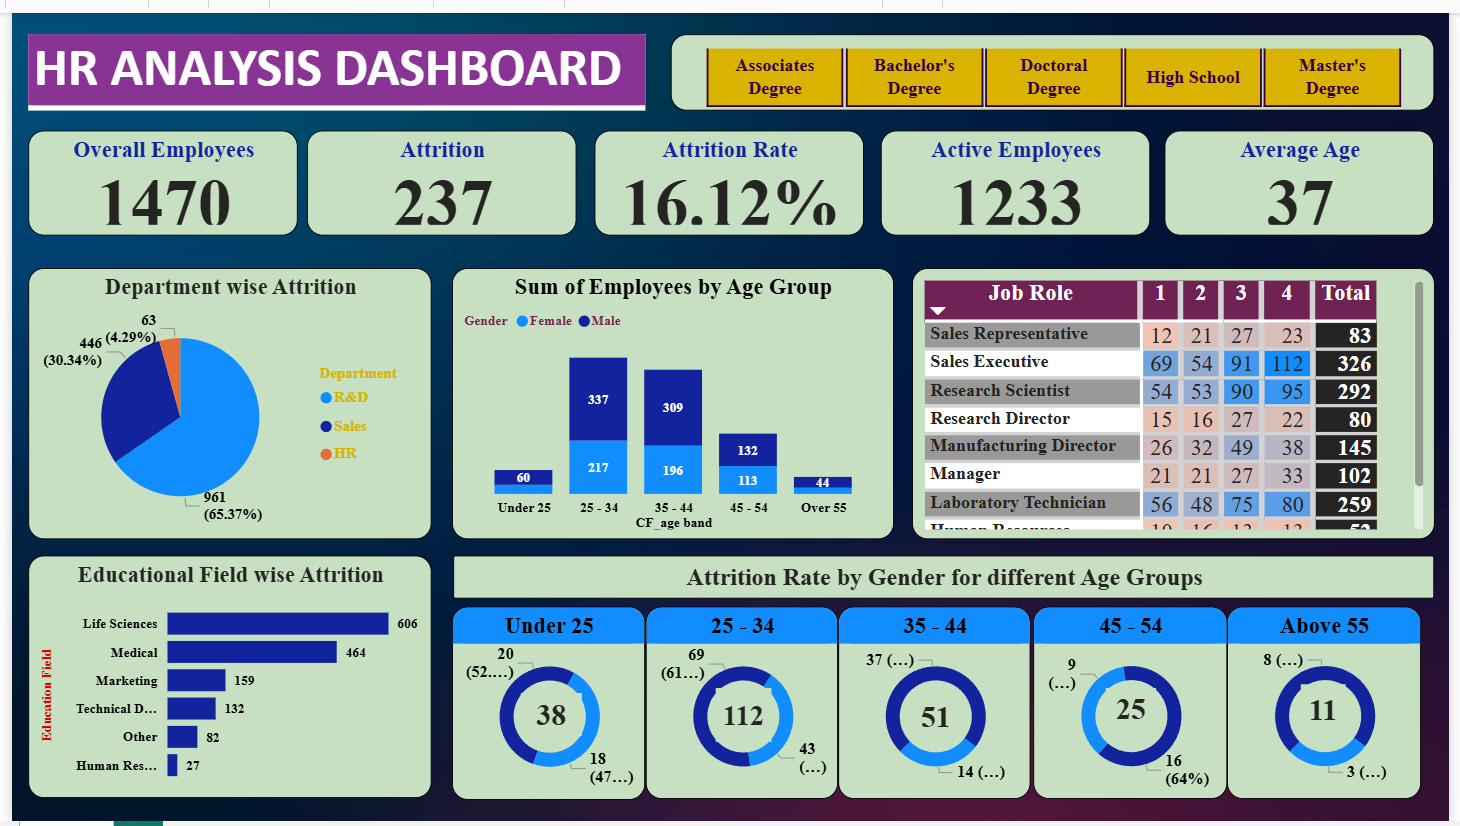

This screenshot's page, from the dashboard's own definition file:
{"tool":"powerbi","page":{"name":"Page 1","canvas":[1280,720],"ordinal":0},"visuals":[{"type":"card","title":"Overall Employees","fields":{"Values":["CountNonNull(Table1 (2).Attrition)"]},"box":[14.5,104.8,240,93.5],"z":0},{"type":"card","title":"Attrition","fields":{"Values":["Sum(Table1 (2).Attrition Count)"]},"box":[262.7,104.8,240.1,93.5],"z":1000},{"type":"card","title":"Attrition Rate","fields":{"Values":["Table1 (2).Attrition Rate"]},"box":[519,104.8,240.1,93.5],"z":2000},{"type":"card","title":"Active Employees","fields":{"Values":["Table1 (2).Active Employees"]},"box":[773.6,104.8,240.1,93.5],"z":3000},{"type":"card","title":"Average Age","fields":{"Values":["Avg(Table1 (2).Age)"]},"box":[1026.7,104.8,240.1,93.5],"z":4000},{"type":"pieChart","title":"Department wise Attrition","fields":{"Category":["Table1 (2).Department"],"Y":["CountNonNull(Table1 (2).Attrition)"]},"box":[14.5,227.3,359.4,241.8],"z":5000},{"type":"columnChart","title":"Sum of Employees by Age Group","fields":{"Category":["Table1 (2).CF_age band"],"Y":["Sum(Table1 (2).Employee Count)"],"Series":["Table1 (2).Gender"]},"box":[391.7,227.3,393.3,241.8],"z":6000},{"type":"pivotTable","fields":{"Rows":["Table1 (2).Job Role"],"Columns":["Table1 (2).Job Satisfaction"],"Values":["Sum(Table1 (2).Employee Count)"]},"box":[801,227.3,465.8,241.8],"z":7000},{"type":"barChart","title":"Educational Field wise Attrition","fields":{"Category":["Table1 (2).Education Field"],"Y":["CountNonNull(Table1 (2).Attrition)"]},"box":[14.5,483.5,359.4,216],"z":8000},{"type":"donutChart","title":"Under 25","fields":{"Category":["Table1 (2).Gender"],"Y":["Sum(Table1 (2).Attrition Count)"],"Series":["Table1 (2).CF_age band"]},"box":[391.7,528.3,171.7,171.7],"z":9000},{"type":"textbox","box":[393.3,483.5,873.6,38.7],"z":10000},{"type":"donutChart","title":"25 - 34","fields":{"Category":["Table1 (2).Gender"],"Y":["Sum(Table1 (2).Attrition Count)"],"Series":["Table1 (2).CF_age band"]},"box":[564.5,528.2,171.4,171.4],"z":11000},{"type":"donutChart","title":"35 - 44","fields":{"Category":["Table1 (2).Gender"],"Y":["Sum(Table1 (2).Attrition Count)"],"Series":["Table1 (2).CF_age band"]},"box":[735.9,528.4,171.3,171.3],"z":12000},{"type":"donutChart","title":"45 - 54","fields":{"Category":["Table1 (2).Gender"],"Y":["Sum(Table1 (2).Attrition Count)"],"Series":["Table1 (2).CF_age band"]},"box":[909,528.7,172.5,170.8],"z":13000},{"type":"donutChart","title":"Above 55","fields":{"Category":["Table1 (2).Gender"],"Y":["Sum(Table1 (2).Attrition Count)"],"Series":["Table1 (2).CF_age band"]},"box":[1081.5,528.7,172.5,170.8],"z":14000},{"type":"card","fields":{"Values":["Sum(Table1 (2).Attrition Count)"]},"box":[627,601.2,50,48.4],"z":15000},{"type":"card","fields":{"Values":["Sum(Table1 (2).Attrition Count)"]},"box":[452.9,606,54.8,38.7],"z":16000},{"type":"card","fields":{"Values":["Sum(Table1 (2).Attrition Count)"]},"box":[802.6,604.4,40.3,45.1],"z":17000},{"type":"card","fields":{"Values":["Sum(Table1 (2).Attrition Count)"]},"box":[973.5,601.2,45.1,37.1],"z":18000},{"type":"card","fields":{"Values":["Sum(Table1 (2).Attrition Count)"]},"box":[1147.6,598,40.3,45.1],"z":19000},{"type":"textbox","title":"HR ANALYSIS DASHBOARD","box":[14.5,19.3,549.6,67.7],"z":20000},{"type":"slicer","fields":{"Values":["Table1 (2).Education"]},"box":[586.7,19.3,680.2,67.7],"z":21000}]}

Visuals, with their boxes in screenshot pixels (x1, y1, x2, y2), scaled from the page's 1280x720 canvas onto the 1460x826 screenshot:
"Overall Employees" card: select_region(17, 120, 290, 227)
"Attrition" card: select_region(300, 120, 574, 227)
"Attrition Rate" card: select_region(592, 120, 866, 227)
"Active Employees" card: select_region(882, 120, 1156, 227)
"Average Age" card: select_region(1171, 120, 1445, 227)
"Department wise Attrition" pieChart: select_region(17, 261, 426, 538)
"Sum of Employees by Age Group" columnChart: select_region(447, 261, 895, 538)
pivotTable - Table1 (2).Job Role x Table1 (2).Job Satisfaction: select_region(914, 261, 1445, 538)
"Educational Field wise Attrition" barChart: select_region(17, 555, 426, 802)
"Under 25" donutChart: select_region(447, 606, 643, 803)
textbox: select_region(449, 555, 1445, 599)
"25 - 34" donutChart: select_region(644, 606, 839, 803)
"35 - 44" donutChart: select_region(839, 606, 1035, 803)
"45 - 54" donutChart: select_region(1037, 607, 1234, 802)
"Above 55" donutChart: select_region(1234, 607, 1430, 802)
card - Sum(Table1 (2).Attrition Count): select_region(715, 690, 772, 745)
card - Sum(Table1 (2).Attrition Count): select_region(517, 695, 579, 740)
card - Sum(Table1 (2).Attrition Count): select_region(915, 693, 961, 745)
card - Sum(Table1 (2).Attrition Count): select_region(1110, 690, 1162, 732)
card - Sum(Table1 (2).Attrition Count): select_region(1309, 686, 1355, 738)
"HR ANALYSIS DASHBOARD" textbox: select_region(17, 22, 643, 100)
slicer - Table1 (2).Education: select_region(669, 22, 1445, 100)
